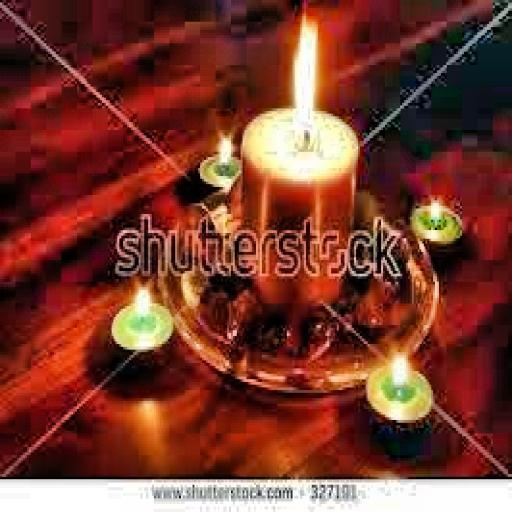fire: (283, 11, 335, 149)
